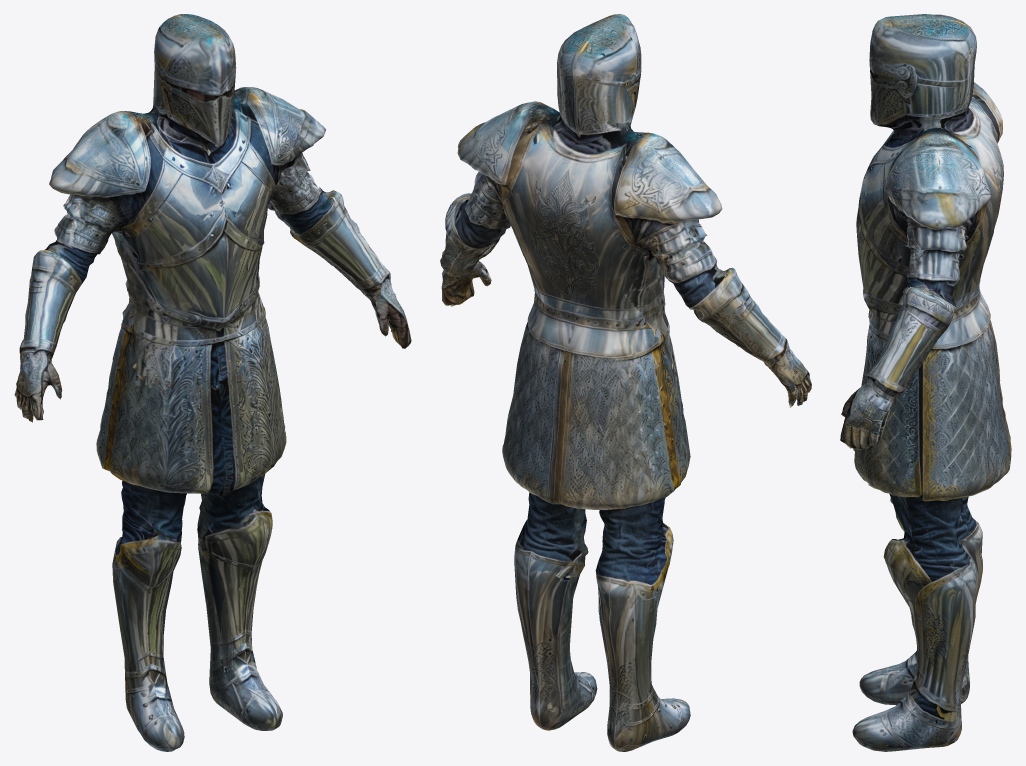
File: medieval_knight_armour.glb
3 views of the same model, side by side, from view 1: azimuth 30°, elevation 25°; view 2: azimuth 150°, elevation 25°; view 3: azimuth 270°, elevation 25° (orthographic).
Parts seen in each view (by area): view 1: Mesh_0_Material_0_0; view 2: Mesh_0_Material_0_0; view 3: Mesh_0_Material_0_0.
Boxes of the visible parts, x1,y1,x2,y2 form: Mesh_0_Material_0_0: (14, 14, 411, 751); Mesh_0_Material_0_0: (440, 14, 811, 751); Mesh_0_Material_0_0: (840, 14, 1011, 751).
Size of the model in its own units: 0.6583 by 1.2 by 0.2625.
Materials: 1 (1 with a texture image).
